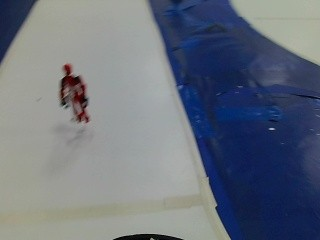pedestrian: (58, 60, 90, 123)
